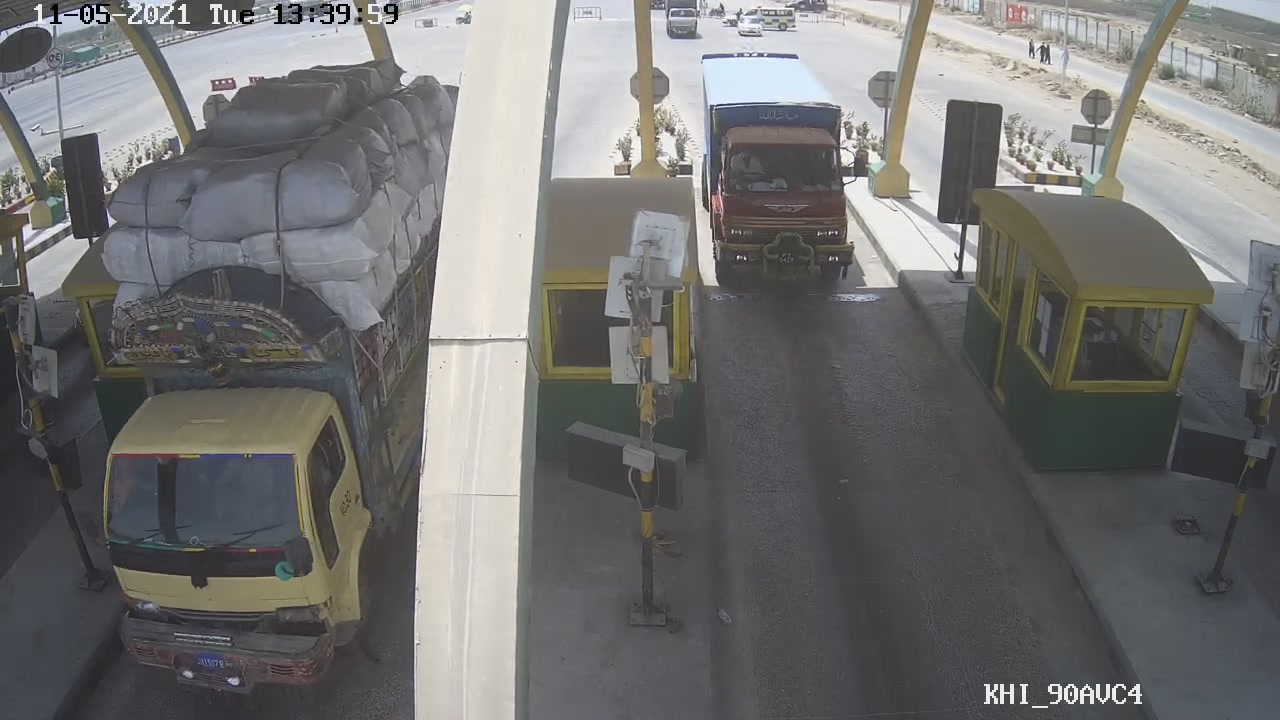F5: (697, 44, 861, 303)
